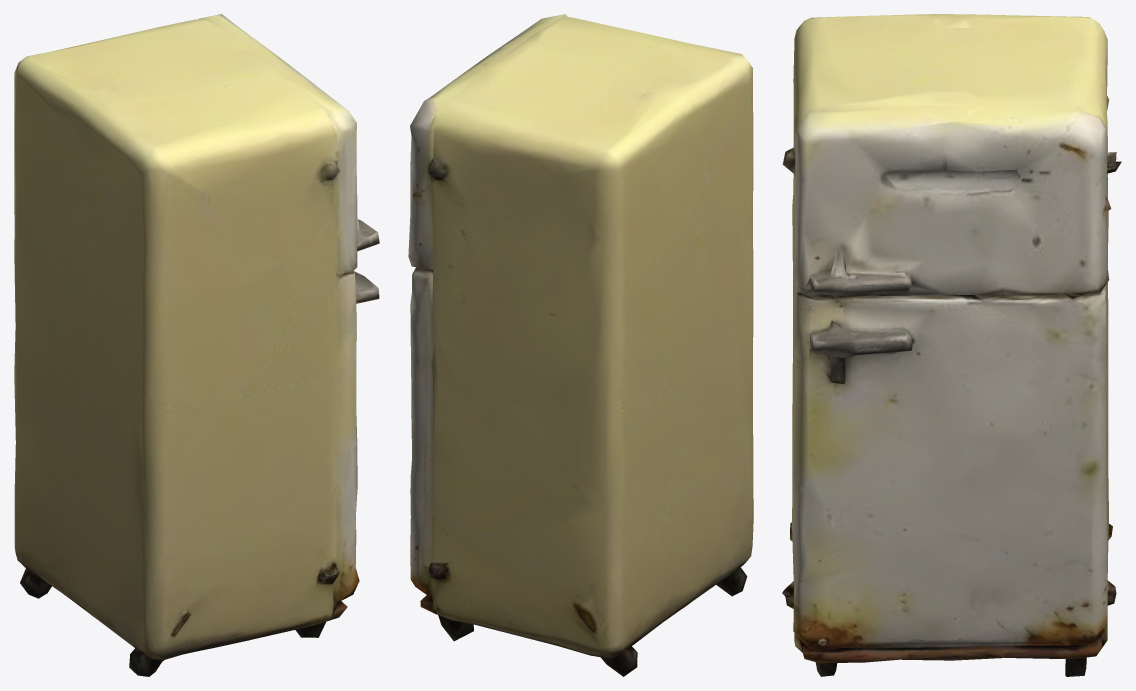
File: e_fridge.glb
The picture shows the model from 3 angles, left to right: view 1: azimuth 30°, elevation 25°; view 2: azimuth 150°, elevation 25°; view 3: azimuth 270°, elevation 25°; orthographic projection. The views are drawn at different scales.
Visible parts, largest first — view 1: tripo_node_f9891162-53e9-4f5b-9854-bd23ad516494; view 2: tripo_node_f9891162-53e9-4f5b-9854-bd23ad516494; view 3: tripo_node_f9891162-53e9-4f5b-9854-bd23ad516494.
Part boxes in pixels (x1,y1,x2,y2): tripo_node_f9891162-53e9-4f5b-9854-bd23ad516494: (14, 14, 379, 676); tripo_node_f9891162-53e9-4f5b-9854-bd23ad516494: (408, 14, 753, 676); tripo_node_f9891162-53e9-4f5b-9854-bd23ad516494: (782, 14, 1121, 676).
Bounding box in the file's own units: 0.462 × 1 × 0.5274.
Materials: 1 (1 with a texture image).
